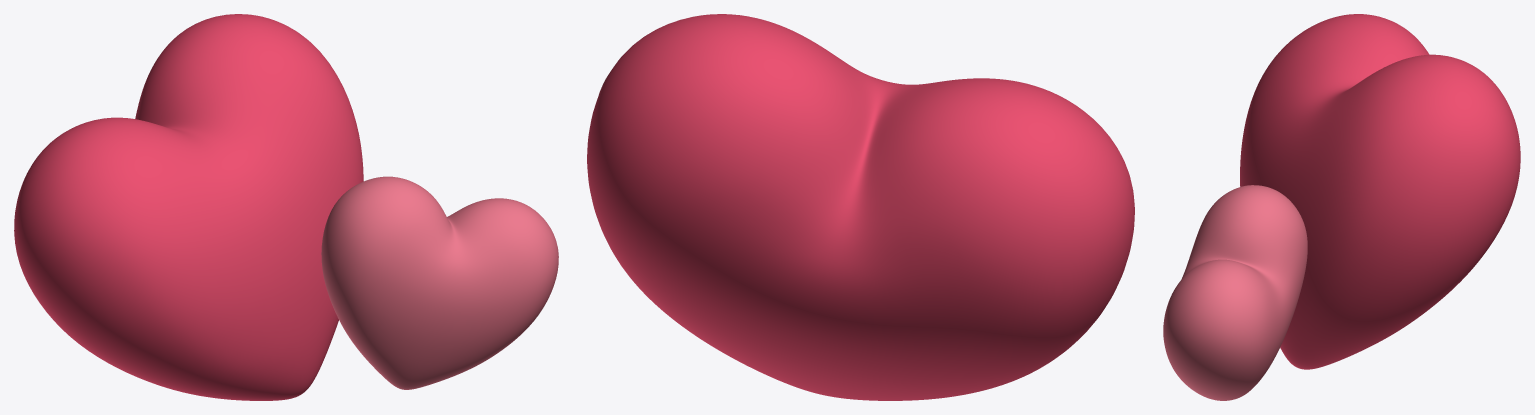
Rendered from heart-3d-animated-icon-703201640391.glb.
The picture shows the model from 3 angles, left to right: view 1: azimuth 30°, elevation 25°; view 2: azimuth 150°, elevation 25°; view 3: azimuth 270°, elevation 25°; orthographic projection. The views are drawn at different scales.
Visible parts, largest first — view 1: heart 1, heart 2; view 2: heart 1; view 3: heart 1, heart 2.
Boxes of the visible parts, box(x1,y1,x2,y2) form: heart 1: box(14, 14, 363, 400); heart 2: box(321, 176, 558, 389); heart 1: box(587, 14, 1134, 400); heart 1: box(1240, 14, 1520, 369); heart 2: box(1163, 185, 1307, 400).
Bounding box in the file's own units: 3.17 × 2.13 × 2.24.
